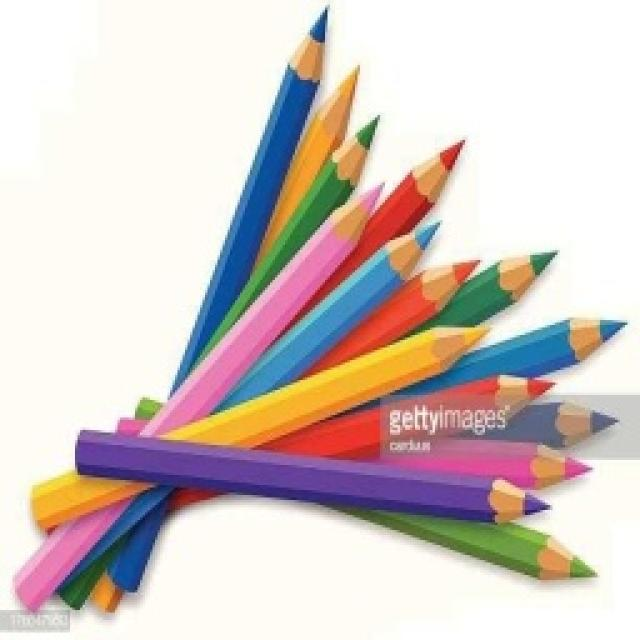pencil: (10, 0, 632, 618)
